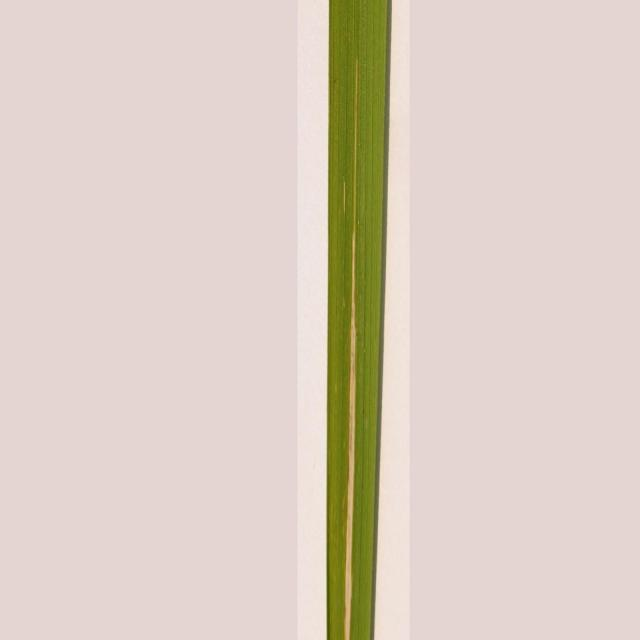leaf blight: (333, 241, 374, 640)
